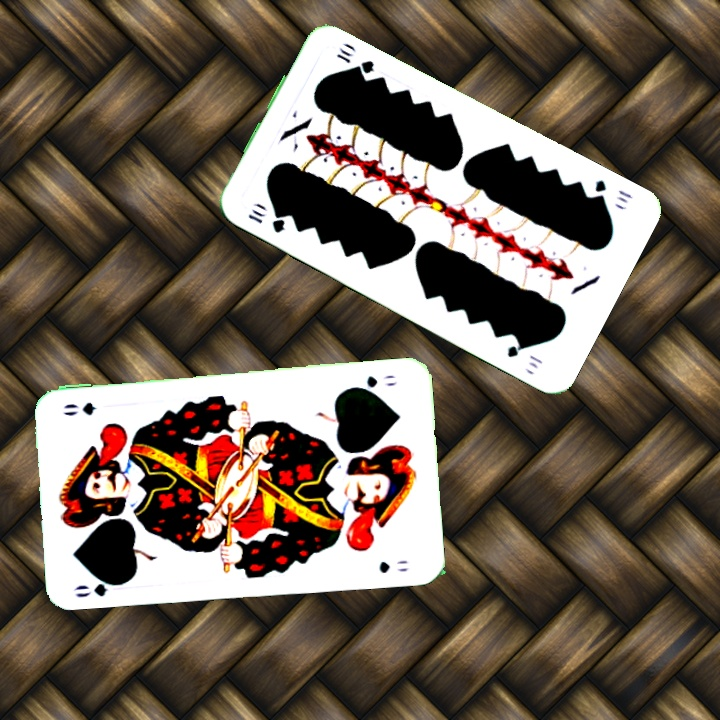G10: (588, 175, 636, 206), (244, 206, 288, 236)
GO: (70, 573, 129, 600), (347, 370, 400, 394)
